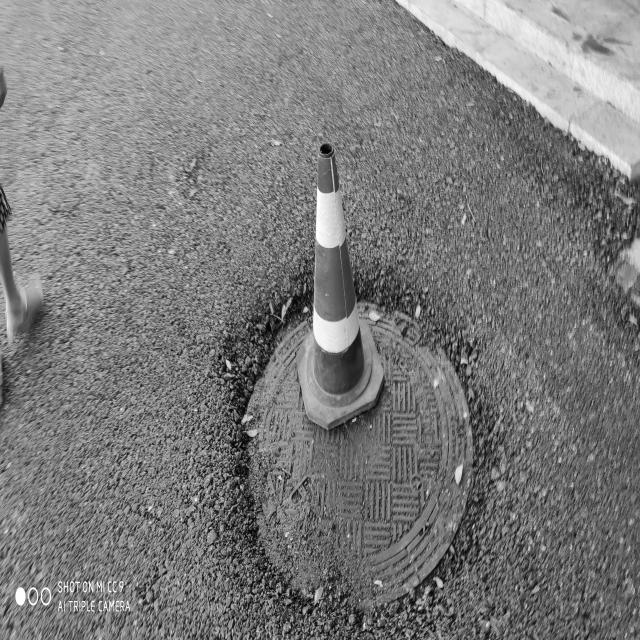reflective_cone: (296, 133, 384, 431)
